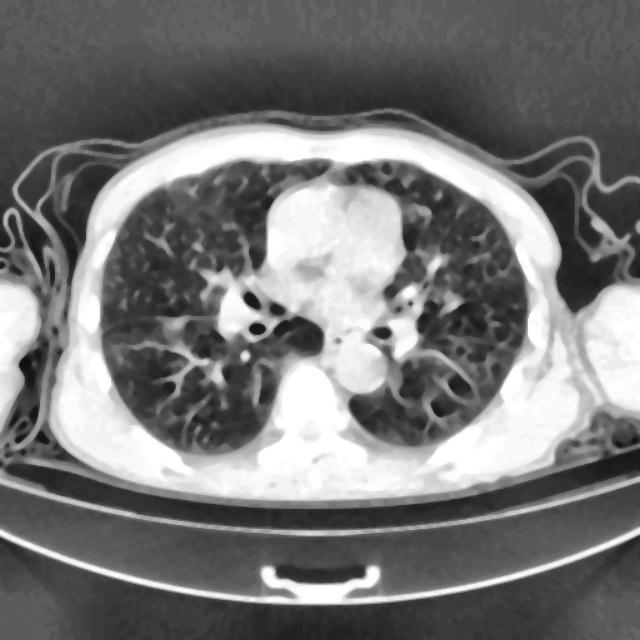covid: (1, 109, 638, 506)
